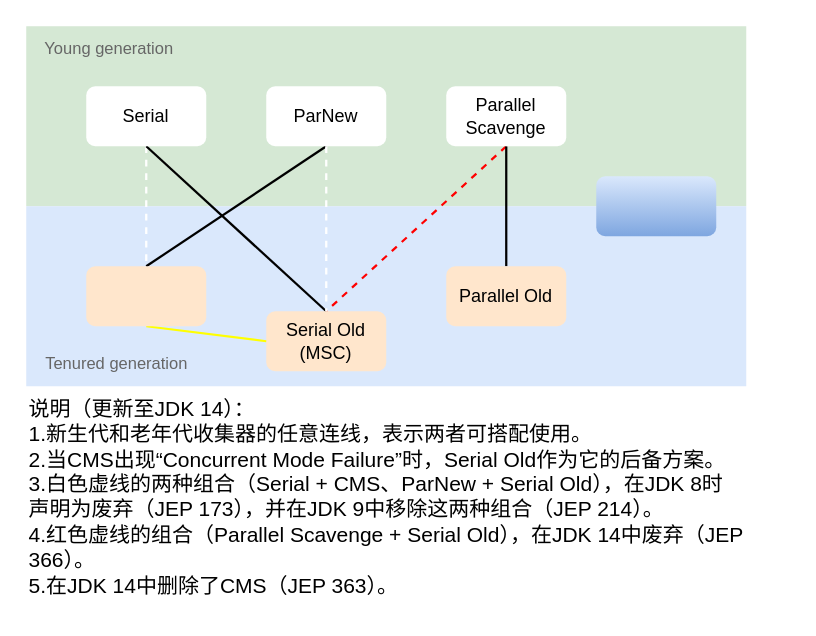
This 816x636 diagram has some shape labels left out. Here are the shapes that lost their labels. From the top down, the centre of each, then its label:
At pixel 656 206: "G1".
At pixel 146 296: "CMS".
